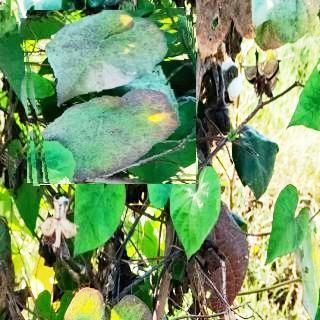leaf spot: (21, 10, 196, 184)
